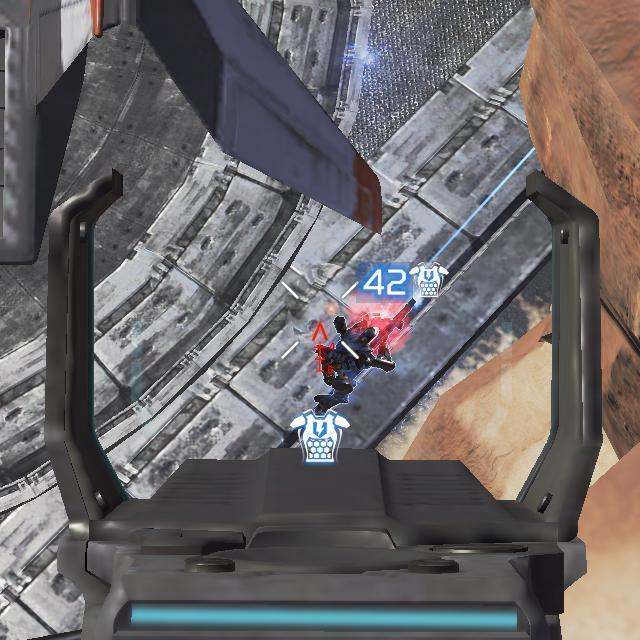avatar: (313, 315, 397, 417)
